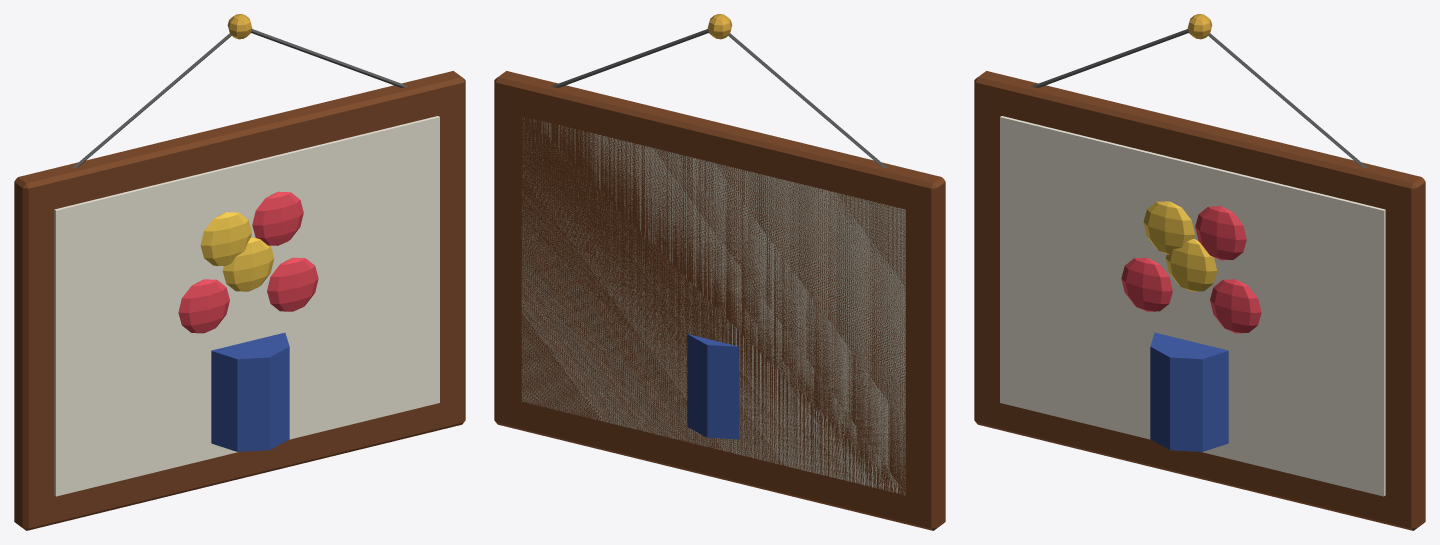
Rendered from wall_art_flowers.glb.
3 renders of one model, left to right at view 1: azimuth 30°, elevation 25°; view 2: azimuth 150°, elevation 25°; view 3: azimuth 330°, elevation 25°, orthographic.
Visible parts, largest first — view 1: wall_art_flowers; view 2: wall_art_flowers; view 3: wall_art_flowers.
Boxes of the visible parts, x1,y1,x2,y2 form: wall_art_flowers: (14, 14, 465, 530); wall_art_flowers: (494, 14, 945, 530); wall_art_flowers: (974, 14, 1425, 530).
Bounding box in the file's own units: 0.6 × 0.595 × 0.1.
